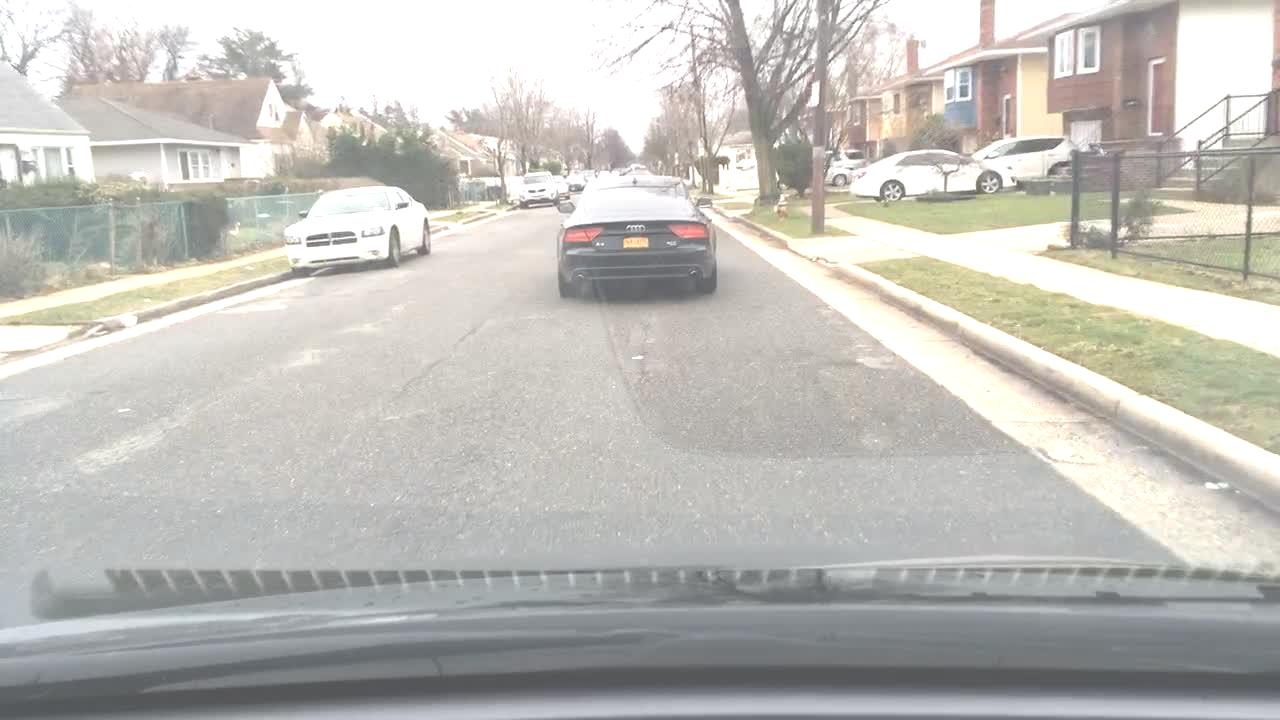Audi: (622, 223, 648, 233)
